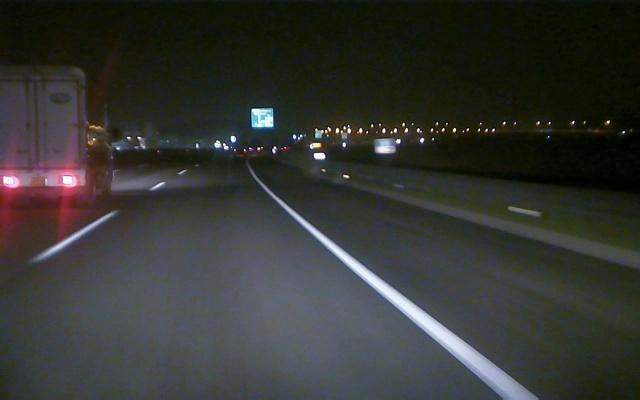lane: (260, 184, 540, 399), (27, 181, 164, 262)
